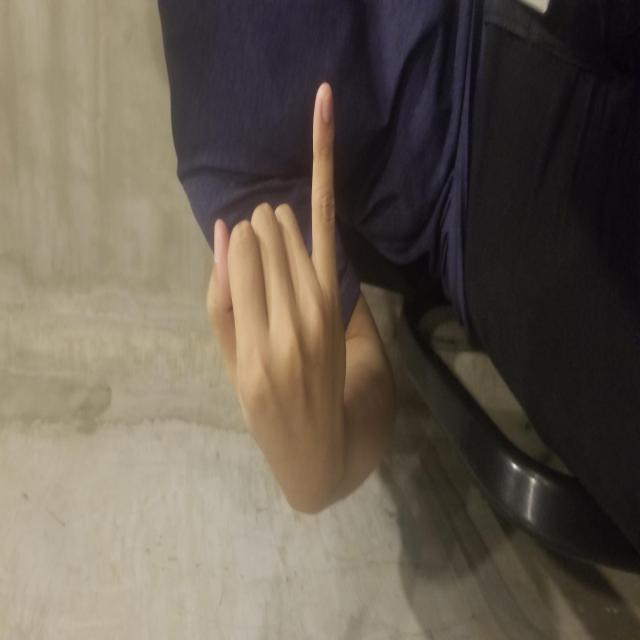J: (147, 208, 562, 346)
